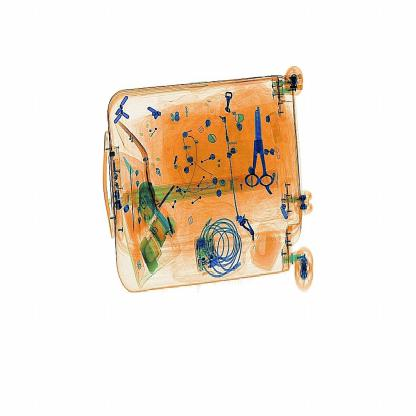gun: (240, 100, 287, 198)
